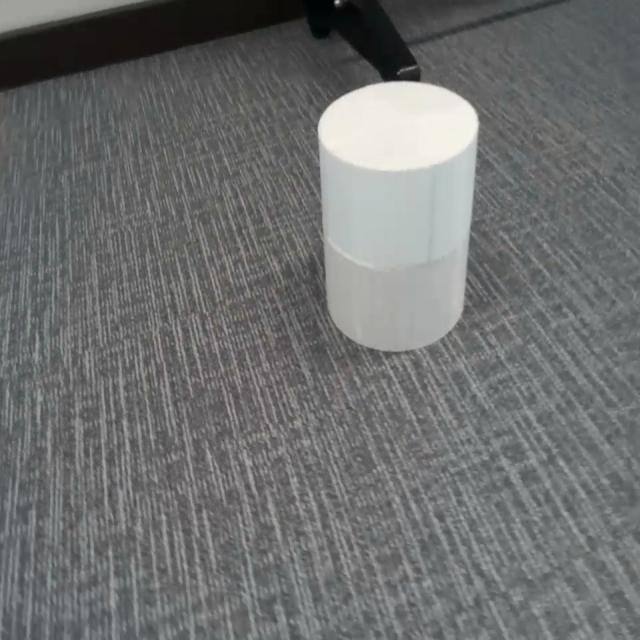cylinder: (317, 79, 480, 354)
